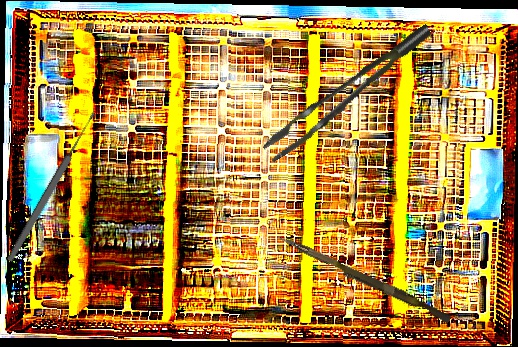Pusher: (273, 233, 454, 324)
Surgical Spoon: (5, 110, 99, 264)
Tissue Forceps: (251, 24, 447, 163)
